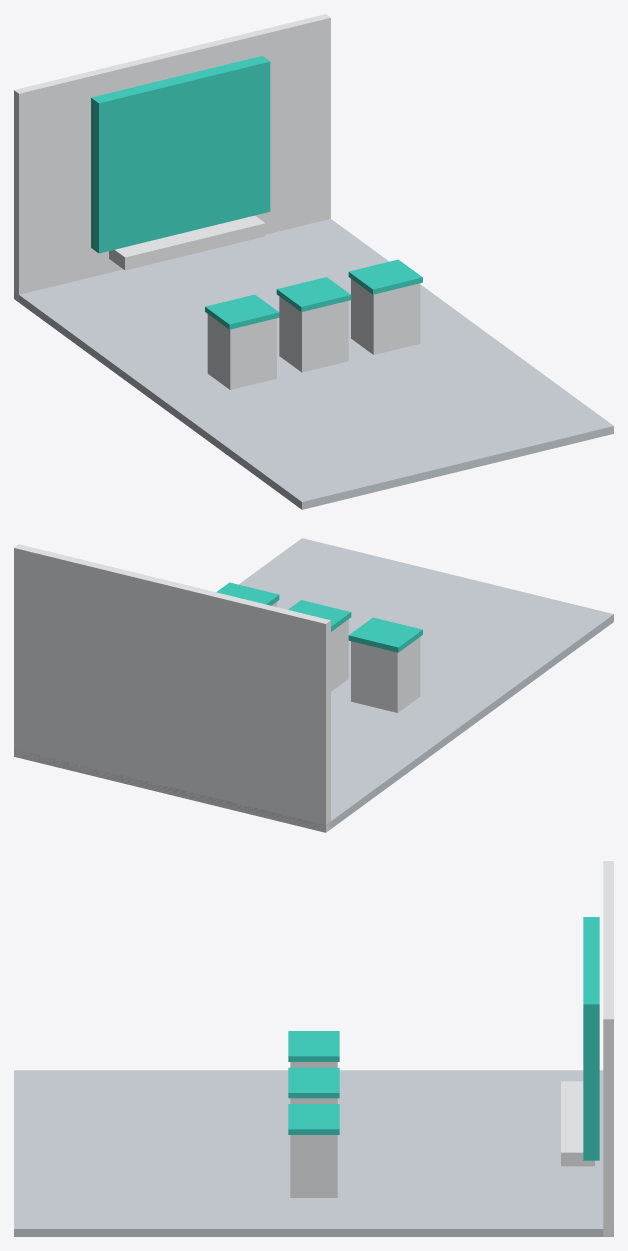
3 views of the same model, one above another, from view 1: azimuth 30°, elevation 25°; view 2: azimuth 150°, elevation 25°; view 3: azimuth 270°, elevation 25° (orthographic). The views are drawn at different scales.
Parts seen in each view (by area): view 1: Exhibition Booth Concept; view 2: Exhibition Booth Concept; view 3: Exhibition Booth Concept.
Part boxes in pixels (box(x1,y1,x2,y2)): Exhibition Booth Concept: box(14, 14, 613, 509); Exhibition Booth Concept: box(14, 538, 613, 832); Exhibition Booth Concept: box(14, 861, 613, 1236).
Size of the model in its own units: 5 by 3.2 by 8.
